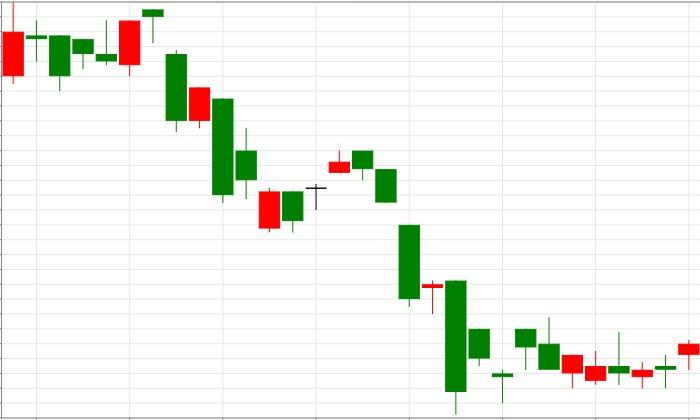three_black_crows_fall: (259, 149, 421, 307)
